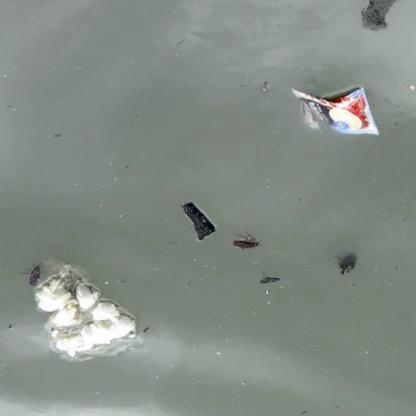Trash: (30, 261, 134, 359), (290, 86, 382, 134)
